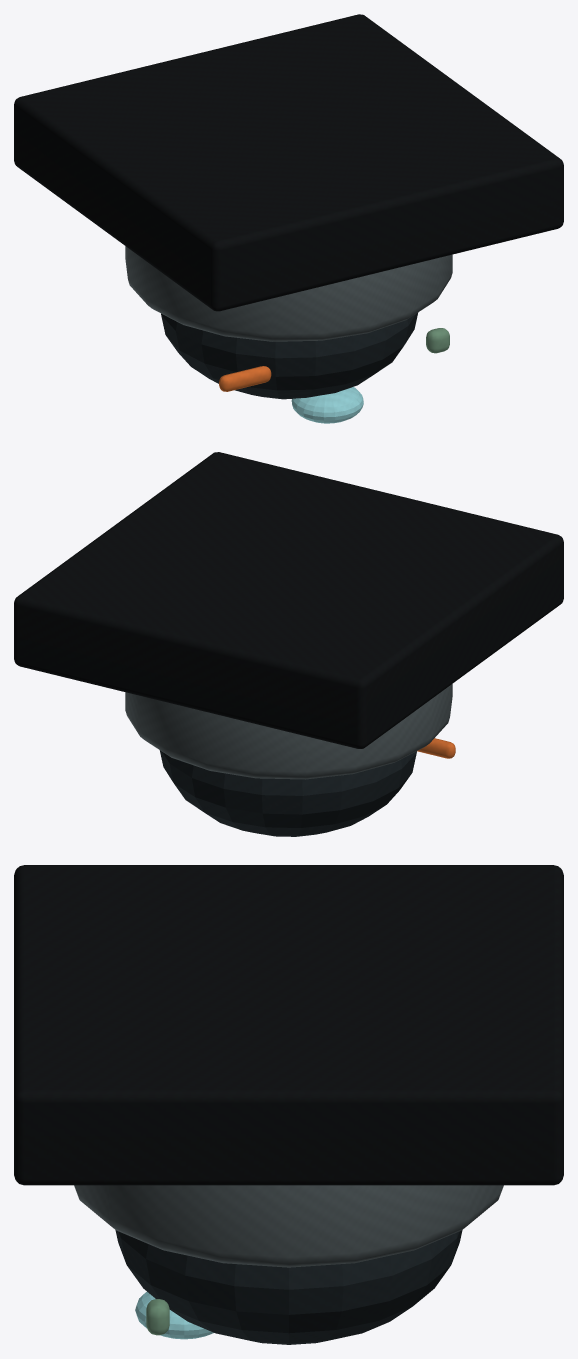
File: CeilingSensor.glb
The picture shows the model from 3 angles, top to bottom: view 1: azimuth 30°, elevation 25°; view 2: azimuth 150°, elevation 25°; view 3: azimuth 270°, elevation 25°; orthographic projection. The views are drawn at different scales.
Visible parts, largest first — view 1: CeilingSensor_Mesh; view 2: CeilingSensor_Mesh; view 3: CeilingSensor_Mesh.
Part boxes in pixels (left/top/right/bottom): CeilingSensor_Mesh: left=14, top=14, right=563, bottom=423; CeilingSensor_Mesh: left=14, top=452, right=563, bottom=836; CeilingSensor_Mesh: left=14, top=865, right=563, bottom=1344.
Bounding box in the file's own units: 0.42 × 0.2975 × 0.42.
6 materials, 6 textured.
